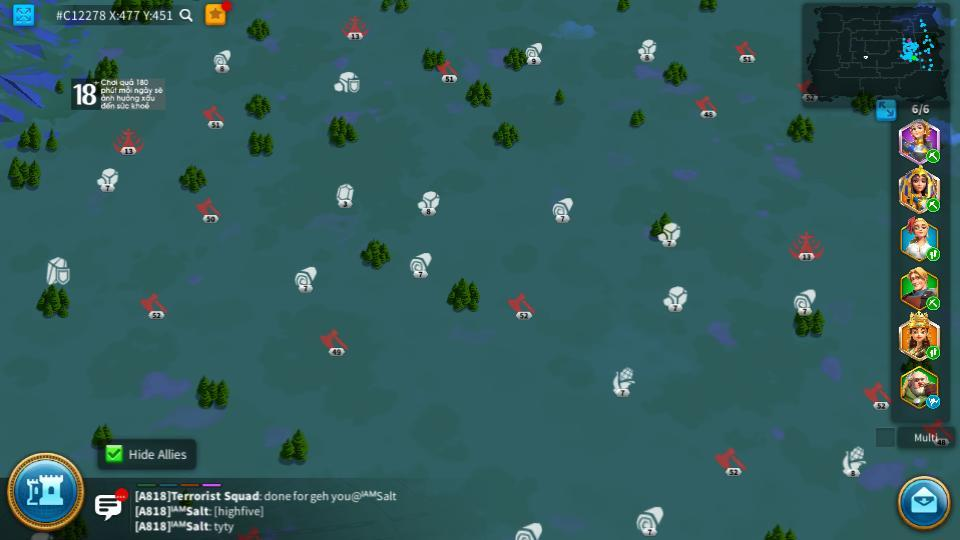gem-z-out: (420, 190, 440, 212), (334, 184, 353, 207)
march_idle: (925, 394, 942, 408)
march_marching: (925, 197, 941, 212), (925, 347, 942, 359), (925, 150, 942, 162), (925, 297, 942, 308), (925, 250, 942, 261)
